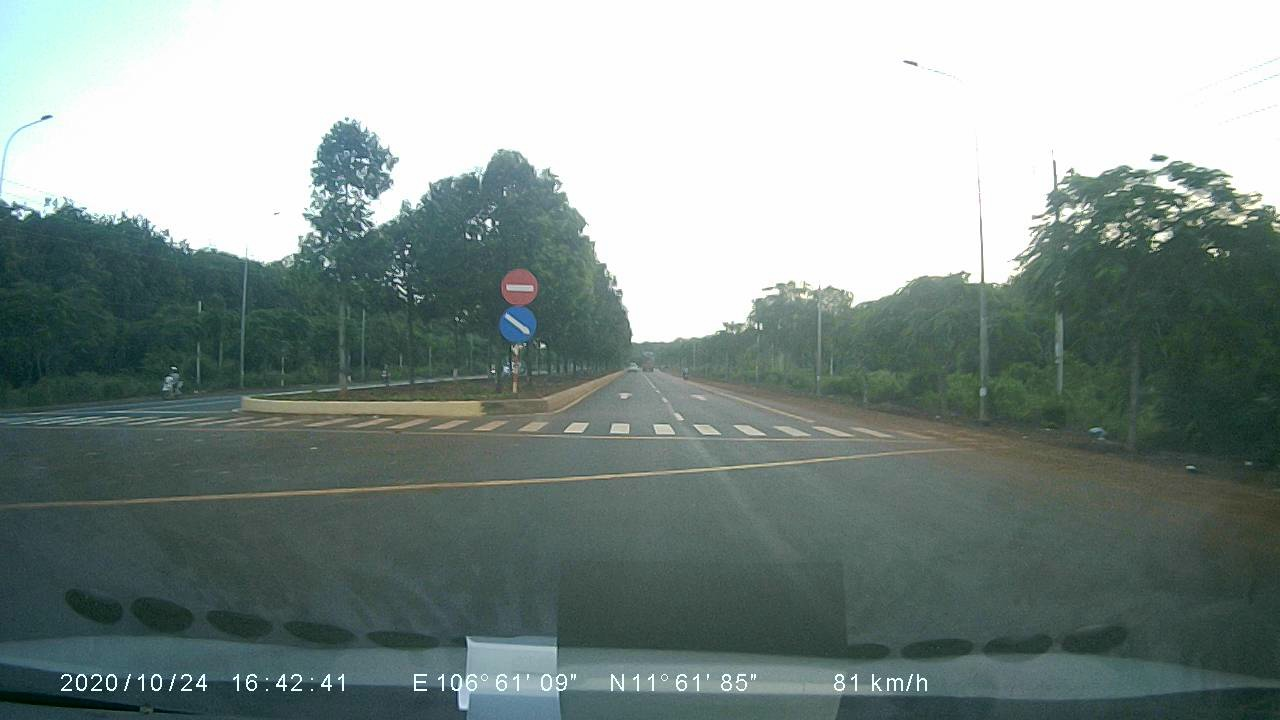Cam di nguoc chieu: (496, 263, 538, 305)
Huong di phai re phai: (496, 304, 538, 343)
